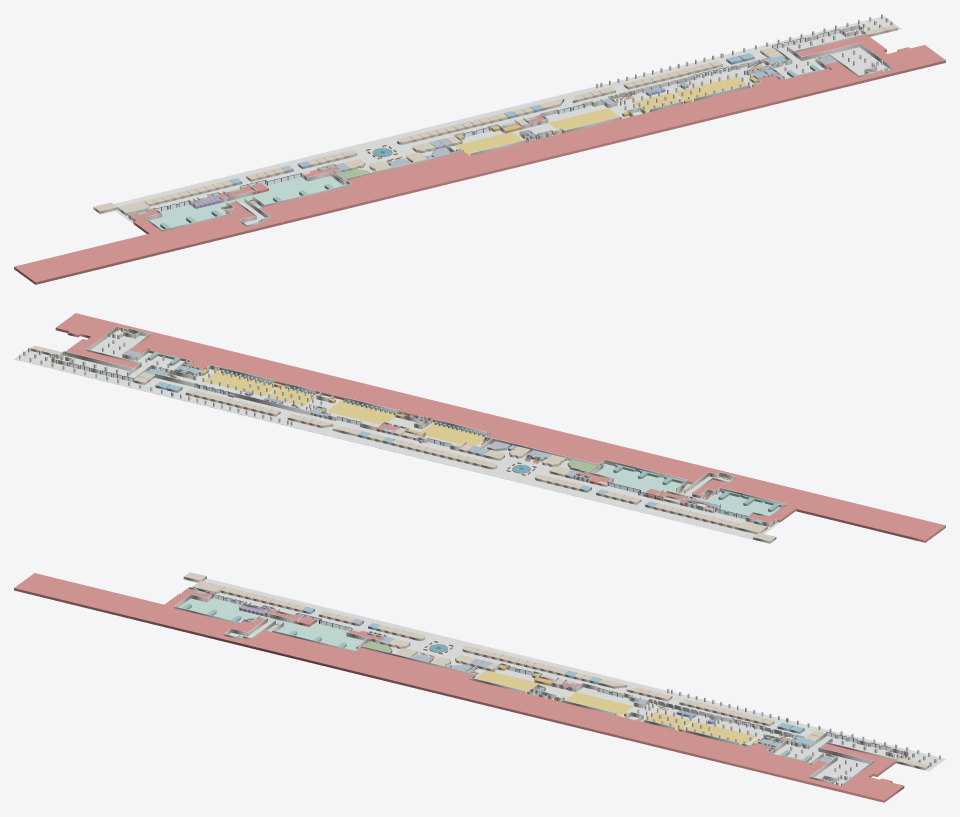
Rendered from buildings-ground-floor.glb.
The picture shows the model from 3 angles, top to bottom: view 1: azimuth 30°, elevation 25°; view 2: azimuth 150°, elevation 25°; view 3: azimuth 330°, elevation 25°; orthographic projection. The views are drawn at different scales.
Visible parts, largest first — view 1: area_merah, area_visitor, ZONE_KEDATANGAN_1B_PART_02, ZONE_KEDATANGAN_1B_PART_01, ZONE_DEPARTURE_3.001, ZONE_DEPARTURE_4.001, ZONE_DEPARTURE_3.002, ZONE_DEPARTURE_1.001, ZONE_DEPARTURE_4.002; view 2: area_merah, area_visitor, ZONE_KEDATANGAN_1B_PART_02, ZONE_DEPARTURE_3.001, ZONE_DEPARTURE_3.002, ZONE_KEDATANGAN_1B_PART_01, ZONE_DEPARTURE_4.001, ZONE_DEPARTURE_1.001, ZONE_DEPARTURE_4.002, ZONE_DEPARTURE_1.002; view 3: area_merah, area_visitor, ZONE_KEDATANGAN_1B_PART_02, ZONE_KEDATANGAN_1B_PART_01, ZONE_DEPARTURE_3.001, ZONE_DEPARTURE_3.002, ZONE_DEPARTURE_4.001, ZONE_DEPARTURE_1.001, ZONE_DEPARTURE_4.002.
Part boxes in pixels (<box>): area_merah: <box>14,35,945,284</box>; area_visitor: <box>93,16,901,229</box>; ZONE_KEDATANGAN_1B_PART_02: <box>228,176,341,207</box>; ZONE_KEDATANGAN_1B_PART_01: <box>151,202,225,228</box>; ZONE_DEPARTURE_3.001: <box>549,109,618,129</box>; ZONE_DEPARTURE_4.001: <box>456,132,521,154</box>; ZONE_DEPARTURE_3.002: <box>550,109,618,129</box>; ZONE_DEPARTURE_1.001: <box>675,77,746,101</box>; ZONE_DEPARTURE_4.002: <box>456,132,521,154</box>; area_merah: <box>55,313,945,542</box>; area_visitor: <box>14,330,779,543</box>; ZONE_KEDATANGAN_1B_PART_02: <box>597,464,689,493</box>; ZONE_DEPARTURE_3.001: <box>327,400,394,423</box>; ZONE_DEPARTURE_3.002: <box>328,400,394,423</box>; ZONE_KEDATANGAN_1B_PART_01: <box>696,492,779,515</box>; ZONE_DEPARTURE_4.001: <box>422,423,484,445</box>; ZONE_DEPARTURE_1.001: <box>205,370,275,395</box>; ZONE_DEPARTURE_4.002: <box>423,424,483,445</box>; ZONE_DEPARTURE_1.002: <box>205,370,274,395</box>; area_merah: <box>14,573,904,802</box>; area_visitor: <box>179,578,945,785</box>; ZONE_KEDATANGAN_1B_PART_02: <box>268,618,362,649</box>; ZONE_KEDATANGAN_1B_PART_01: <box>180,599,266,621</box>; ZONE_DEPARTURE_3.001: <box>566,692,632,715</box>; ZONE_DEPARTURE_3.002: <box>567,693,632,715</box>; ZONE_DEPARTURE_4.001: <box>476,671,539,693</box>; ZONE_DEPARTURE_1.001: <box>688,722,754,745</box>; ZONE_DEPARTURE_4.002: <box>476,671,539,692</box>.
Bounding box in the file's own units: 650 × 3.43 × 78.07.
